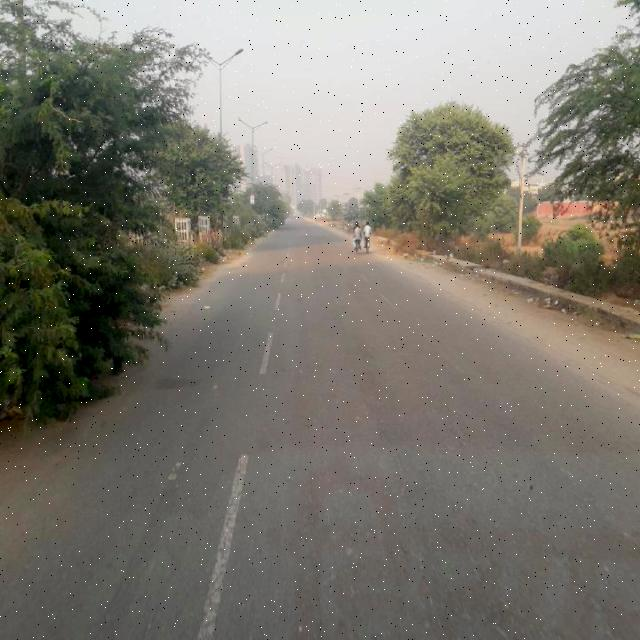D44: (181, 444, 255, 633)
